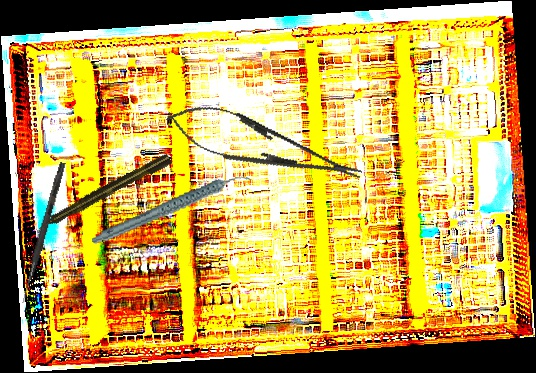Handpiece: (85, 172, 258, 247), (33, 151, 173, 236)
Hook Surgical: (20, 161, 66, 305)
Needle Holder: (160, 92, 368, 200)
